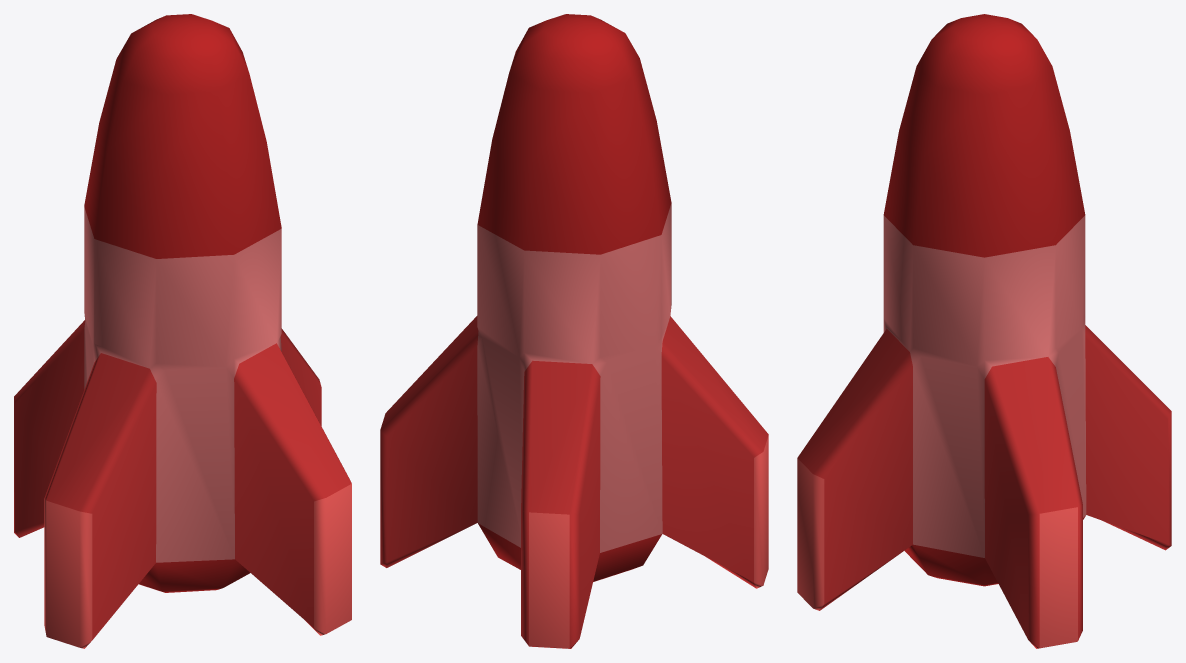
The model's file is Missile1.fbx.
3 views of the same model, side by side, from view 1: azimuth 30°, elevation 25°; view 2: azimuth 150°, elevation 25°; view 3: azimuth 270°, elevation 25° (orthographic).
Visible parts, largest first — view 1: Missile1; view 2: Missile1; view 3: Missile1.
Part boxes in pixels (box(x1,y1,x2,y2)): Missile1: box(14, 14, 351, 648); Missile1: box(380, 14, 768, 648); Missile1: box(797, 14, 1171, 648).
Size of the model in its own units: 90.4 by 146 by 90.4.
